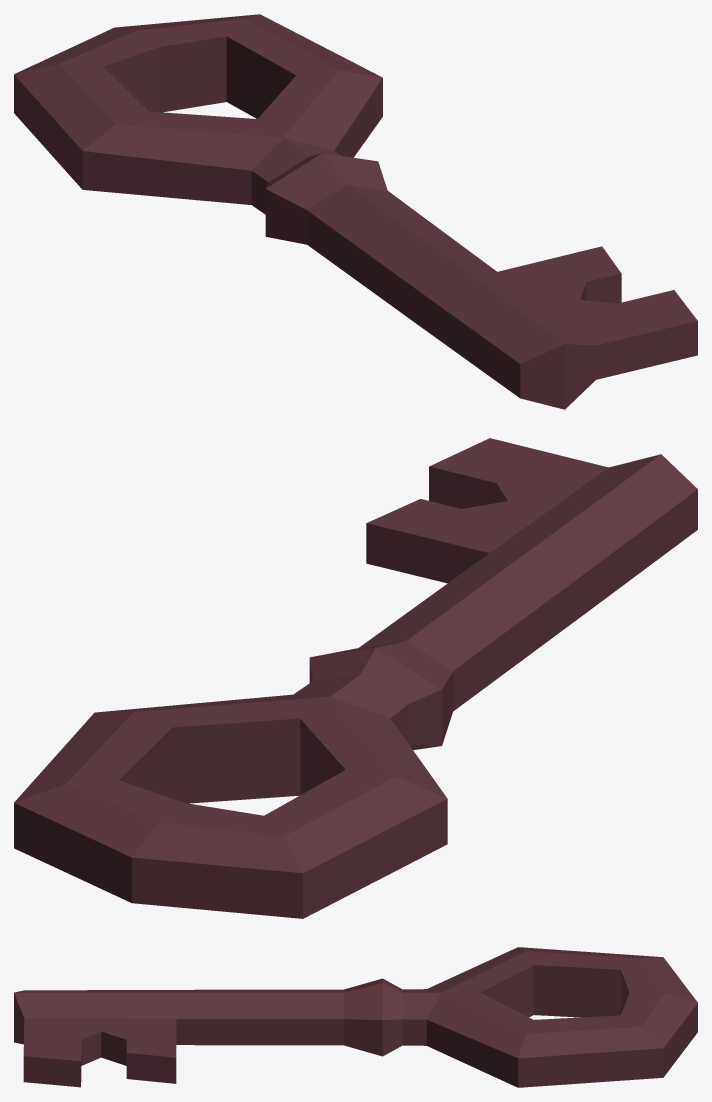
The model's file is fantasy-key-small.glb.
The picture shows the model from 3 angles, top to bottom: view 1: azimuth 30°, elevation 25°; view 2: azimuth 150°, elevation 25°; view 3: azimuth 270°, elevation 25°; orthographic projection. The views are drawn at different scales.
Parts seen in each view (by area): view 1: key-small; view 2: key-small; view 3: key-small.
Part boxes in pixels (x1,y1,x2,y2): key-small: [14, 14, 697, 409]; key-small: [14, 438, 697, 918]; key-small: [14, 947, 697, 1087].
Bounding box in the file's own units: 0.0968 × 0.0279 × 0.2487.
